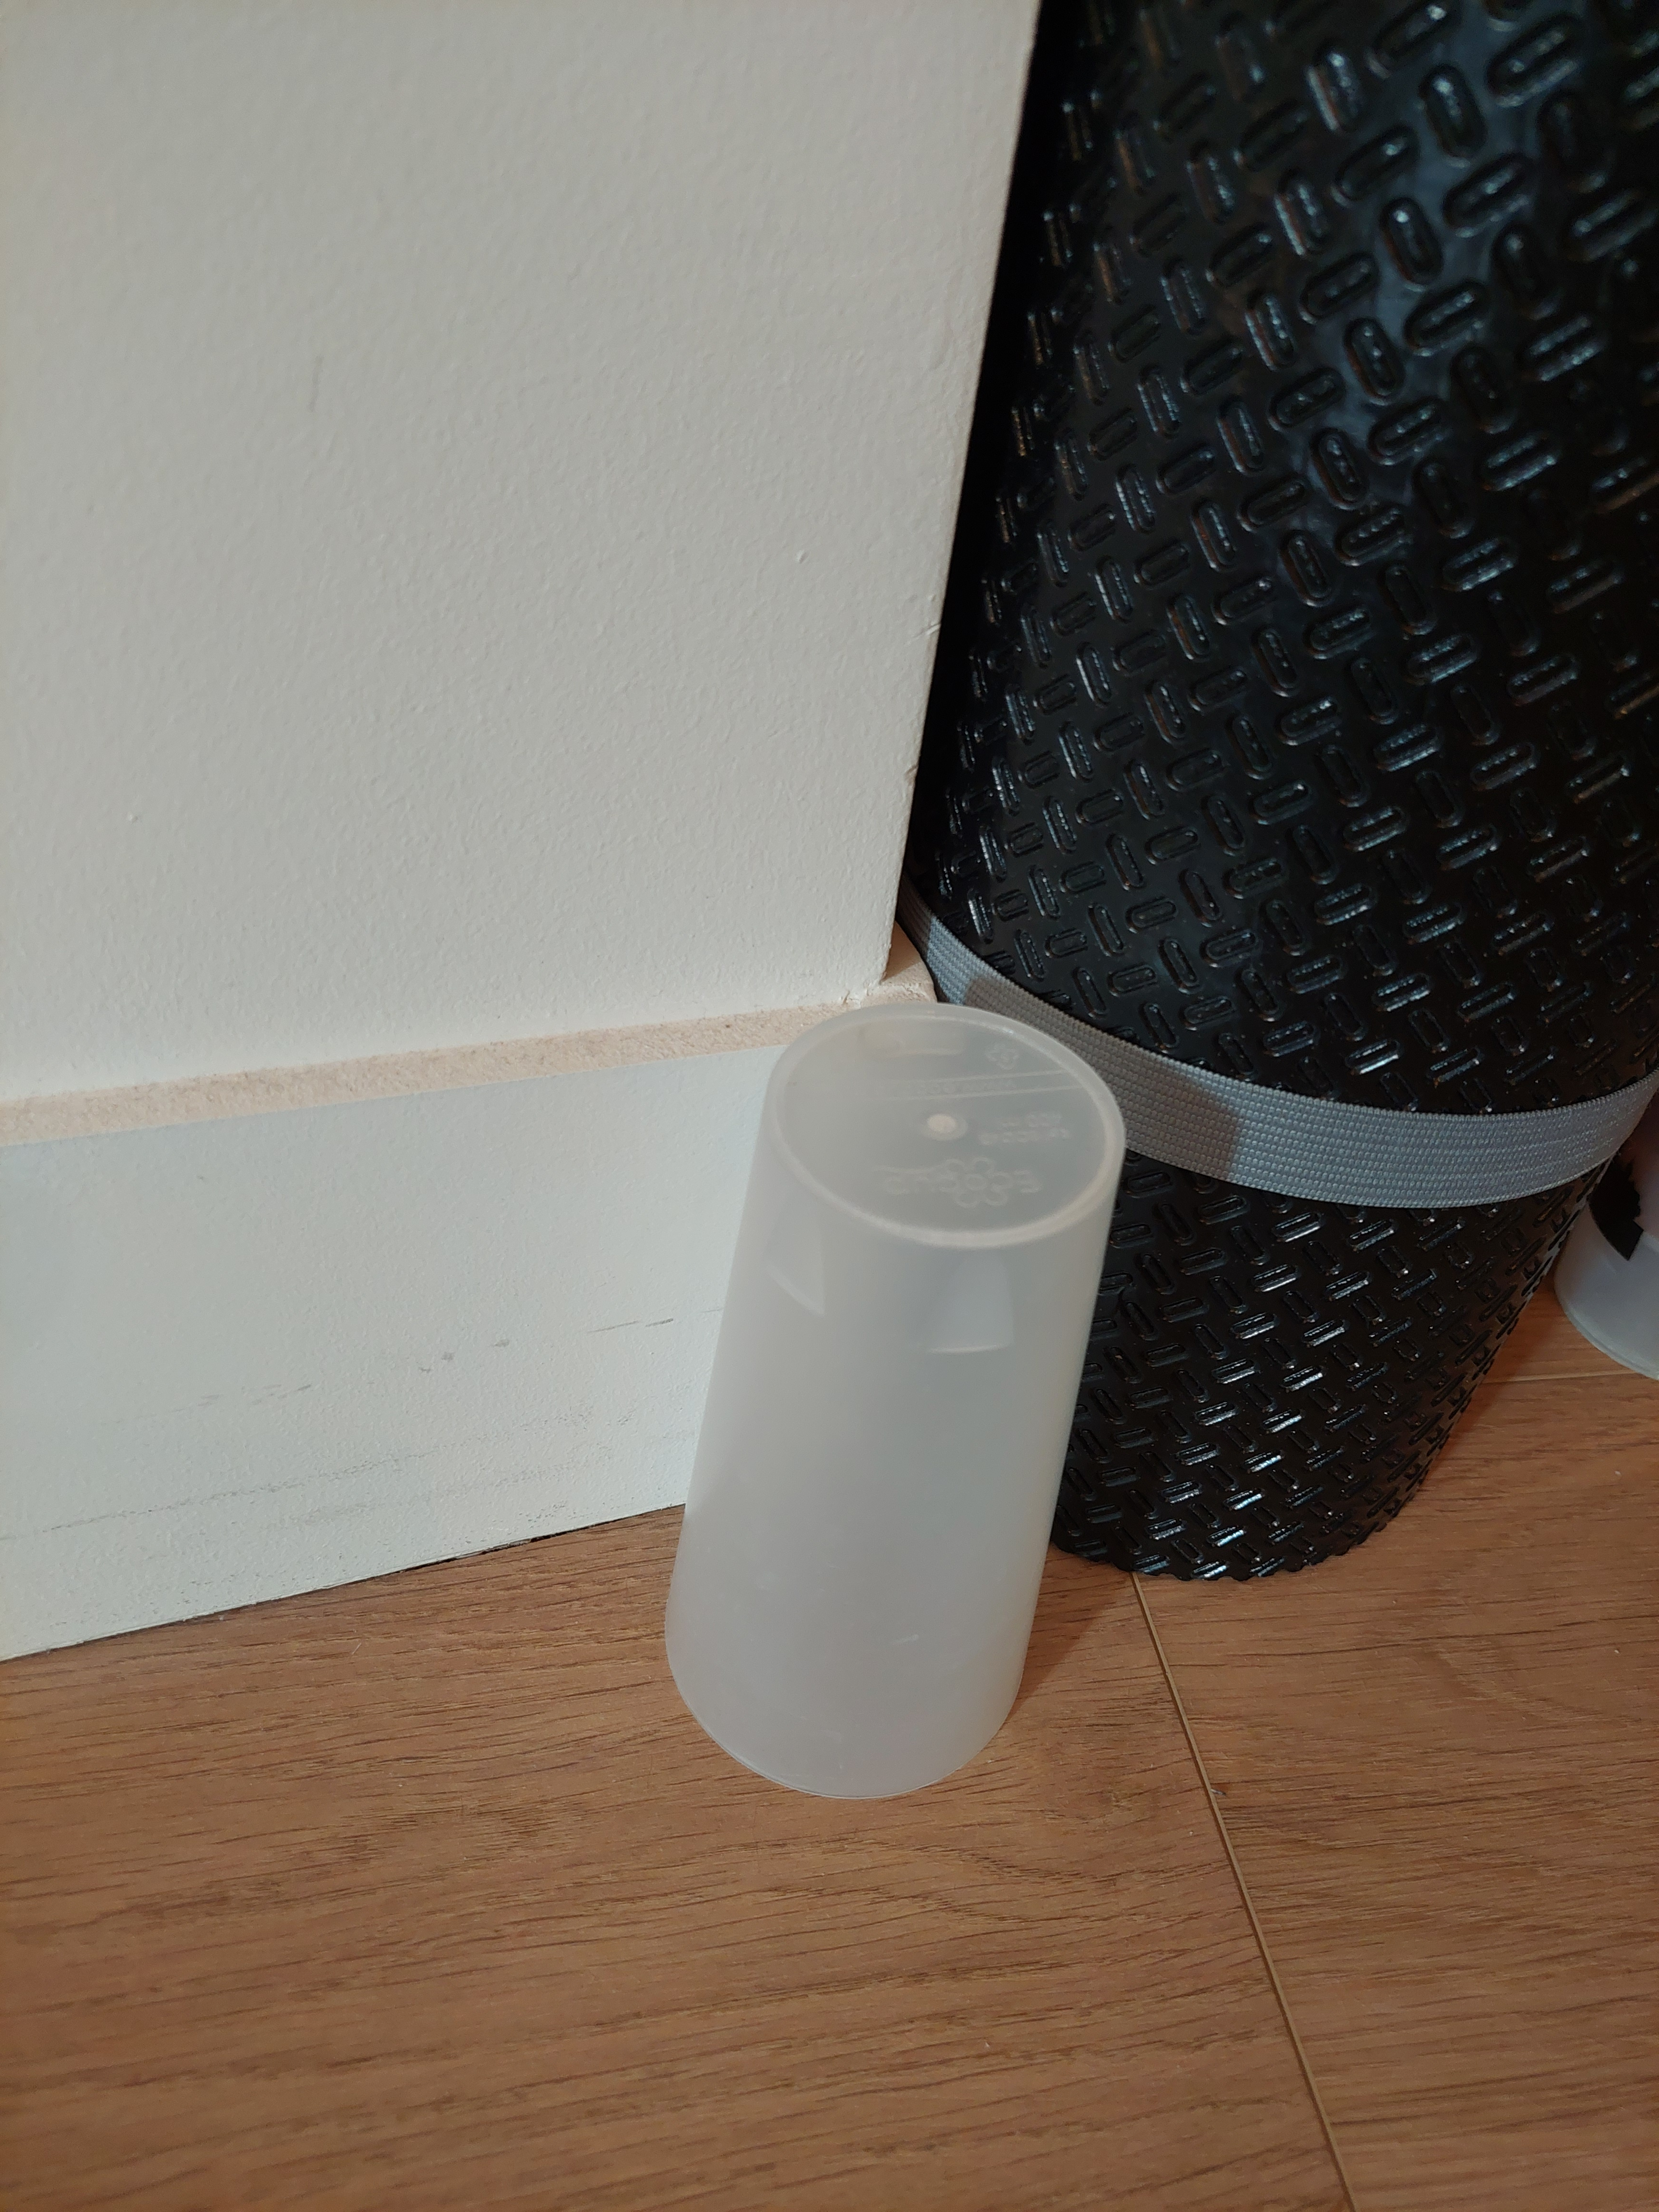ecocup: (653, 1003, 1129, 1801)
